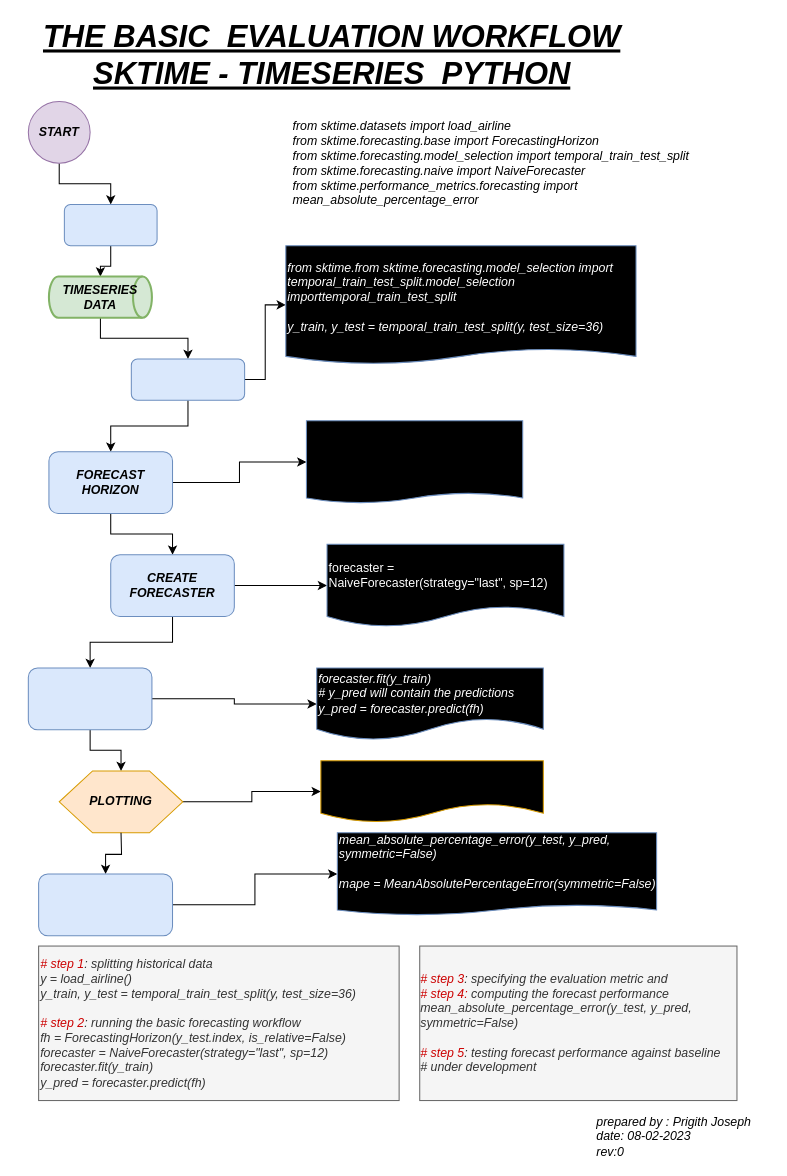
Image size: 787x1176. Some labels were removed from this diagram. The shapes that lost their labels are listed below. From the top down, each one's box as (x1, y1, x2, y2) in pixels, then its label:
(63, 203, 157, 246): LOAD THE DATA
(130, 358, 245, 400): SPLIT THE DATA
(305, 420, 523, 503): fh = ForecastingHorizon(y_test.index, is_relative=False)
(27, 667, 152, 730): FIT AND PREDICT THE MODEL
(320, 760, 543, 822): plot_series(y_train, y_test, y_pred, labels=["y_train", "y_test", "y_pred"])
(38, 873, 173, 936): forecasting metric, evaluating on the test set
